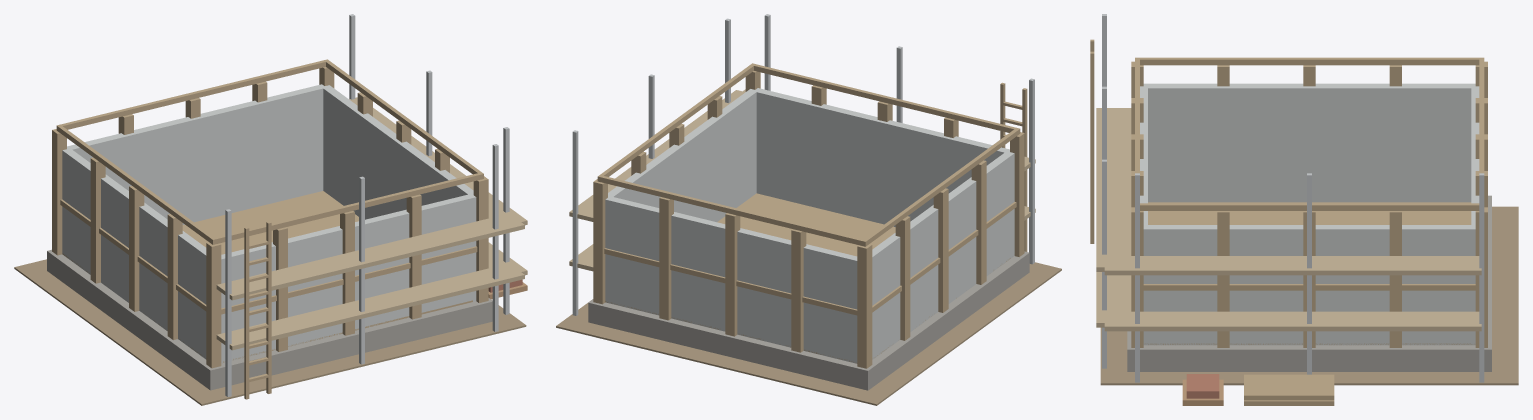
Rendered from spa_site_7.glb.
3 renders of one model, left to right at view 1: azimuth 30°, elevation 25°; view 2: azimuth 150°, elevation 25°; view 3: azimuth 270°, elevation 25°, orthographic. The views are drawn at different scales.
Visible parts, largest first — view 1: body; view 2: body; view 3: body.
Boxes of the visible parts, <box> form: body: <box>14,14,527,405</box>; body: <box>556,14,1061,405</box>; body: <box>1090,14,1518,405</box>.
Bounding box in the file's own units: 2.28 × 1.12 × 2.09.
